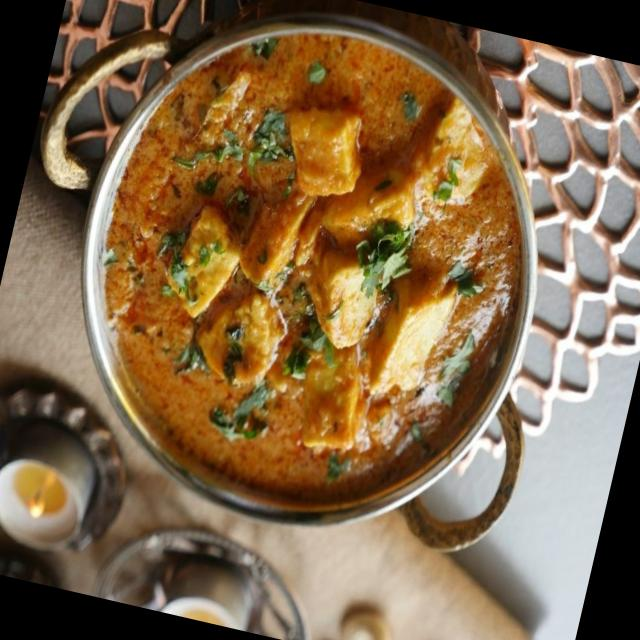ShahiPaneer: (54, 0, 560, 533)
